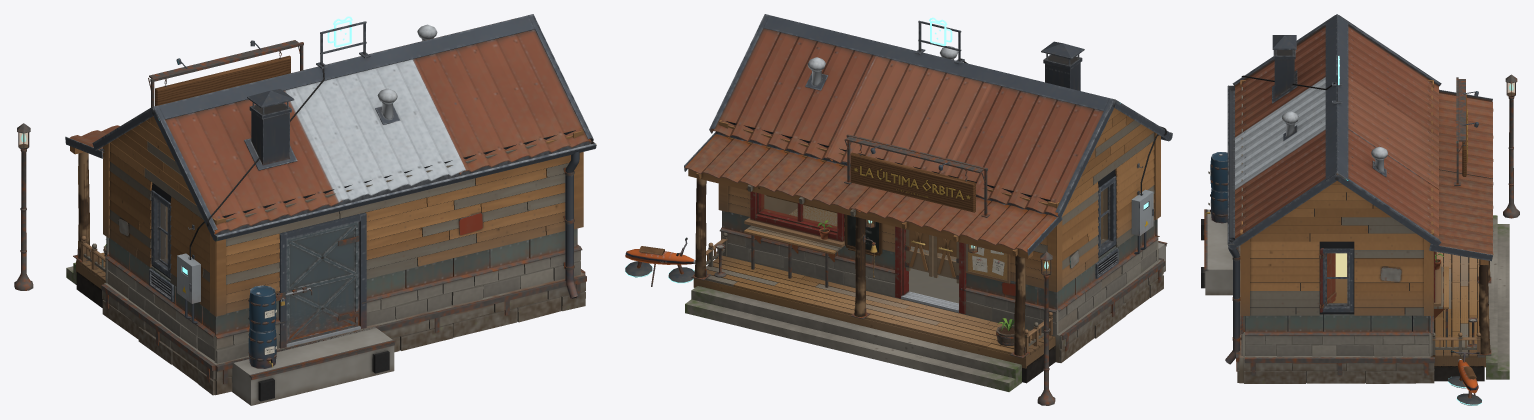
File: taberna.fbx
3 views of the same model, side by side, from view 1: azimuth 30°, elevation 25°; view 2: azimuth 150°, elevation 25°; view 3: azimuth 270°, elevation 25° (orthographic). The views are drawn at different scales.
Parts seen in each view (by area): view 1: tejado, muros, cimiento, puerta_trasera, muelle_carga, chimenea, puerta_trasera_marco, cartel, barriles, cartel_soporte, ventana_cocina_marco, bajante (+8 smaller); view 2: tejado, muros, porche_tejado, porche_suelo, porche_postes, cimiento, escalon_alto, escalon_bajo, cartel, ventana_frontal_marco, puerta_marco, speeder_bike (+14 smaller); view 3: tejado, muros, porche_tejado, cimiento, porche_suelo, muelle_carga, escalon_bajo, chimenea, escalon_alto, barriles, ventana_lateral_marco, porche_postes (+11 smaller).
Part boxes in pixels (left/top/right/bottom): tejado: left=92, top=14, right=596, bottom=241; muros: left=103, top=116, right=583, bottom=363; cimiento: left=101, top=269, right=586, bottom=395; puerta_trasera: left=276, top=222, right=359, bottom=343; muelle_carga: left=231, top=326, right=395, bottom=405; chimenea: left=244, top=89, right=297, bottom=170; puerta_trasera_marco: left=275, top=212, right=366, bottom=348; cartel: left=155, top=55, right=290, bottom=105; barriles: left=248, top=285, right=276, bottom=368; cartel_soporte: left=148, top=40, right=303, bottom=107; ventana_cocina_marco: left=151, top=190, right=171, bottom=278; bajante: left=563, top=151, right=579, bottom=298; tejado: left=709, top=14, right=1172, bottom=218; muros: left=718, top=108, right=1160, bottom=334; porche_tejado: left=684, top=131, right=1062, bottom=255; porche_suelo: left=693, top=255, right=1055, bottom=383; porche_postes: left=688, top=137, right=1045, bottom=358; cimiento: left=715, top=205, right=1165, bottom=362; escalon_alto: left=691, top=286, right=1021, bottom=386; escalon_bajo: left=685, top=299, right=1015, bottom=391; cartel: left=850, top=152, right=975, bottom=212; ventana_frontal_marco: left=744, top=191, right=844, bottom=247; puerta_marco: left=895, top=226, right=966, bottom=313; speeder_bike: left=625, top=237, right=695, bottom=286; tejado: left=1227, top=14, right=1441, bottom=249; muros: left=1240, top=80, right=1433, bottom=356; porche_tejado: left=1429, top=89, right=1492, bottom=261; cimiento: left=1236, top=246, right=1434, bottom=383; porche_suelo: left=1431, top=252, right=1485, bottom=381; muelle_carga: left=1201, top=209, right=1232, bottom=295; escalon_bajo: left=1497, top=224, right=1509, bottom=379; chimenea: left=1272, top=35, right=1297, bottom=103; escalon_alto: left=1486, top=215, right=1497, bottom=379; barriles: left=1205, top=152, right=1227, bottom=223; ventana_lateral_marco: left=1321, top=248, right=1353, bottom=312; porche_postes: left=1477, top=109, right=1493, bottom=355.
Bounding box in the file's own units: 17.08 × 9.68 × 11.25.
Materials: 4 (1 with a texture image).
